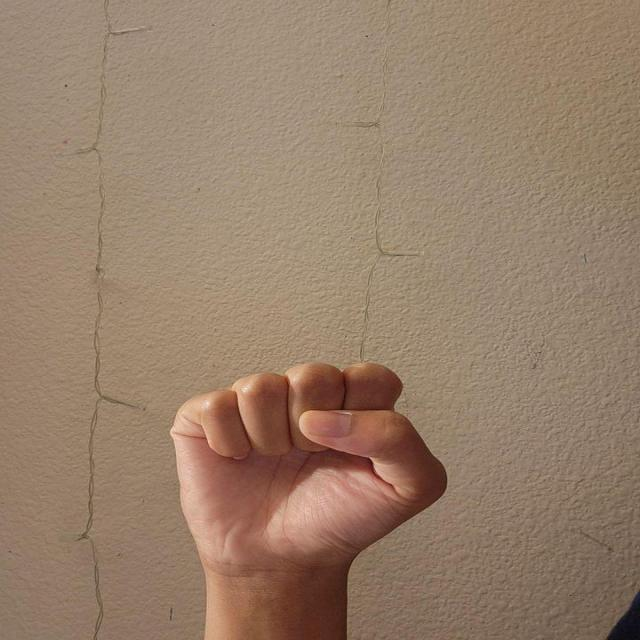S: (160, 358, 453, 580)
